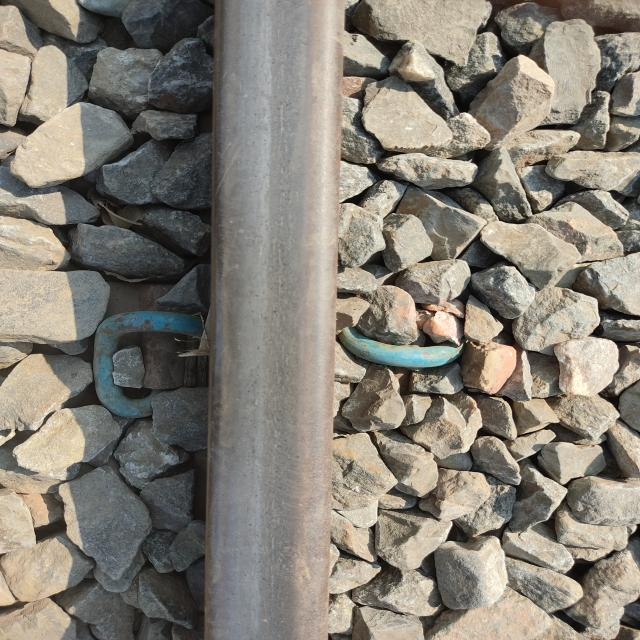No Fault: (226, 47, 327, 628)
